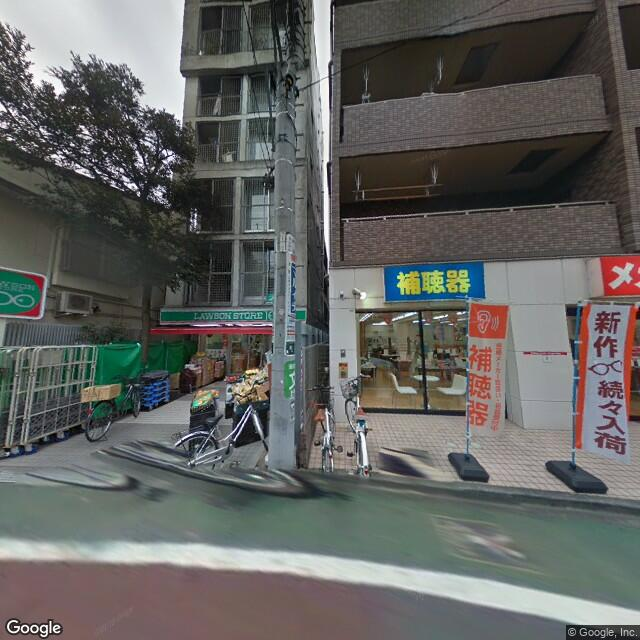lawson: (160, 303, 282, 330), (1, 266, 49, 321)
